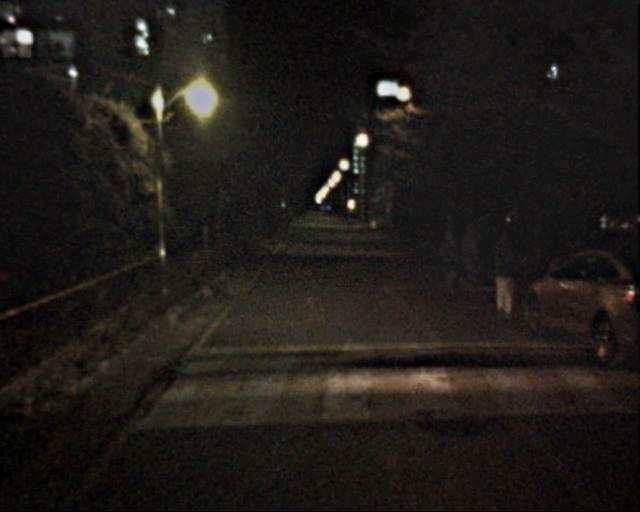person: (485, 224, 525, 322), (456, 220, 490, 295), (436, 227, 468, 294)
